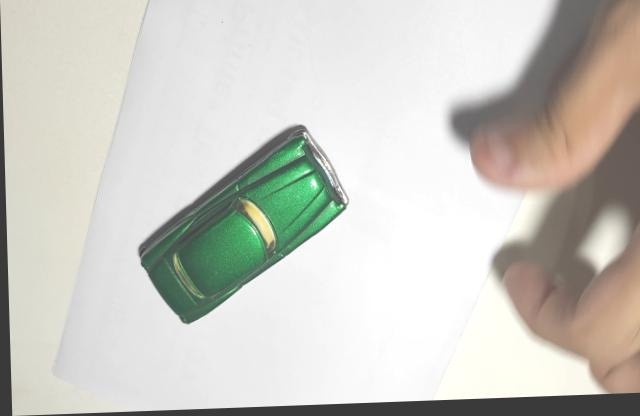06_MASERATI: (135, 125, 348, 325)
